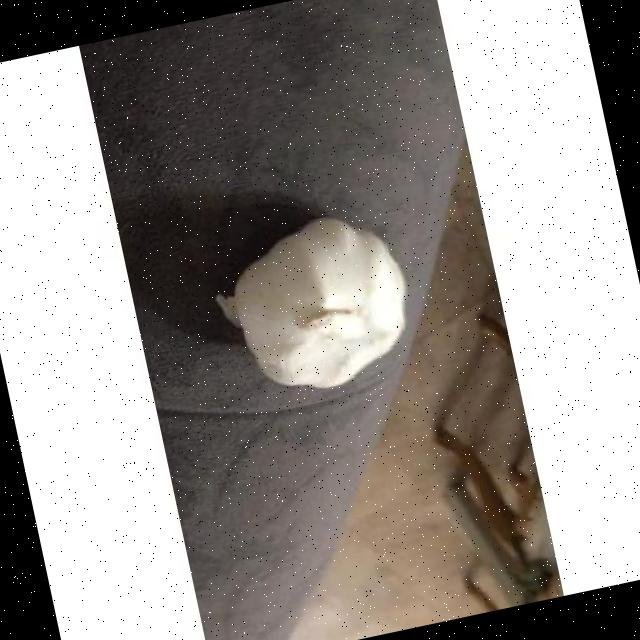garlic: (215, 217, 405, 387)
